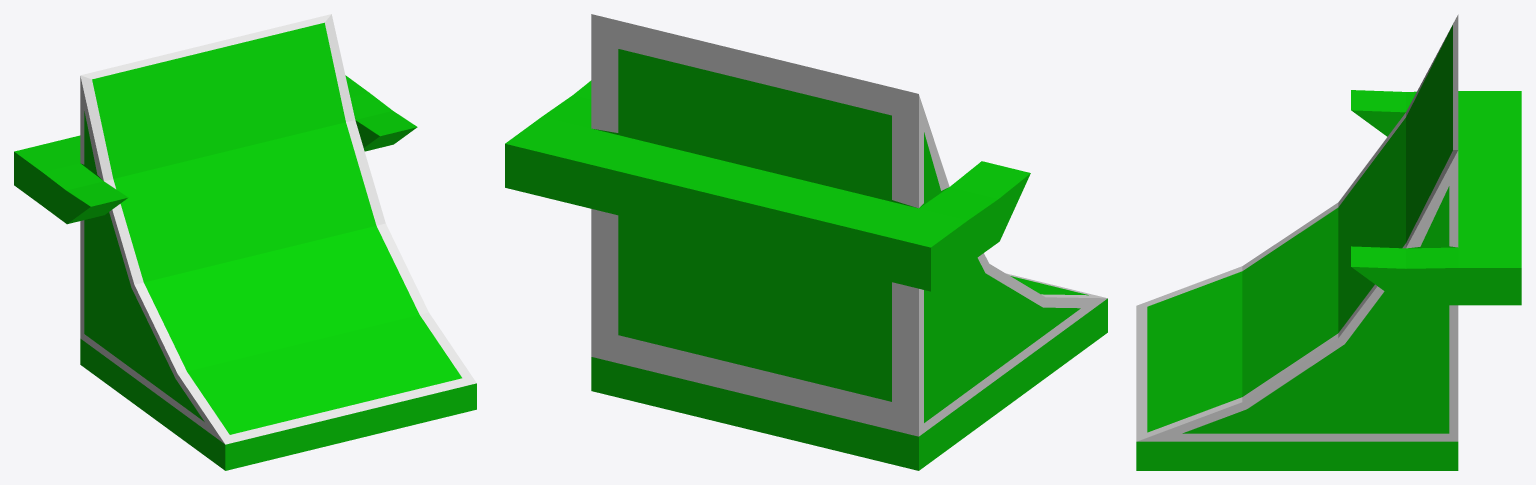
Rendered from schans.fbx.
3 views of the same model, side by side, from view 1: azimuth 30°, elevation 25°; view 2: azimuth 150°, elevation 25°; view 3: azimuth 270°, elevation 25° (orthographic). The views are drawn at different scales.
Visible parts, largest first — view 1: Cube; view 2: Cube; view 3: Cube.
Part boxes in pixels (x1,y1,x2,y2): Cube: (14, 14, 476, 470); Cube: (505, 14, 1107, 470); Cube: (1136, 14, 1521, 470).
Size of the model in its own units: 27.03 by 22.87 by 24.88.
